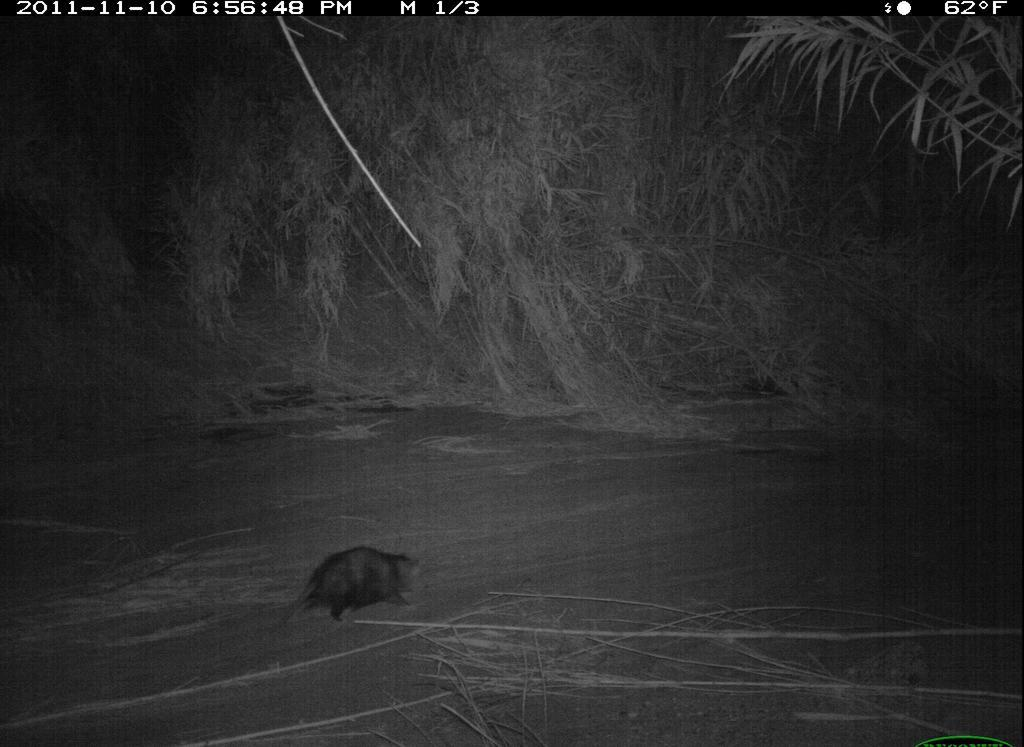opossum: (274, 542, 442, 628)
